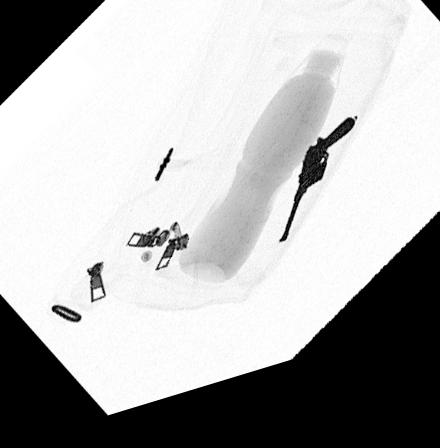Gun: (277, 136, 355, 258)
